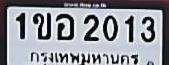0: (102, 14, 117, 40)
1: (124, 14, 133, 42), (15, 12, 24, 38)
2: (83, 14, 98, 40)
3: (140, 16, 154, 41)
A02: (32, 12, 50, 39)
A43: (55, 13, 73, 39)
BKK: (30, 50, 141, 65)
